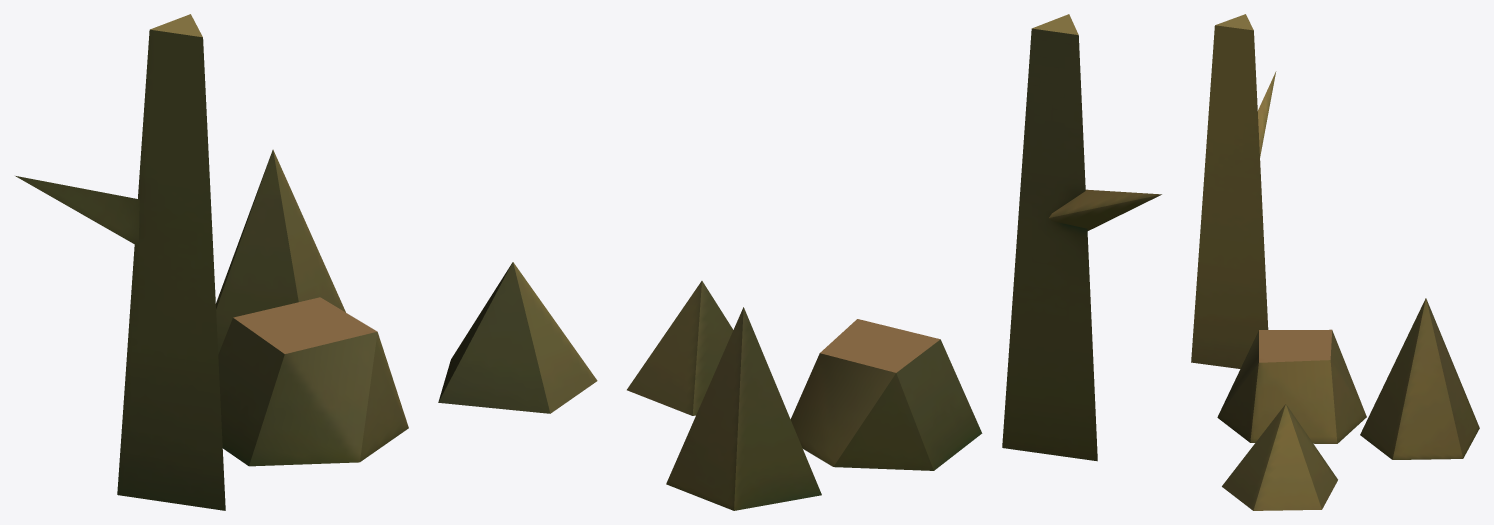
Rendered from Sce_worldmap_tree_b08.FBX.
3 views of the same model, side by side, from view 1: azimuth 30°, elevation 25°; view 2: azimuth 150°, elevation 25°; view 3: azimuth 270°, elevation 25° (orthographic). The views are drawn at different scales.
Visible parts, largest first — view 1: Sce_worldmap_tree_b08; view 2: Sce_worldmap_tree_b08; view 3: Sce_worldmap_tree_b08.
Part boxes in pixels (left/top/right/bottom): Sce_worldmap_tree_b08: left=15, top=14, right=597, bottom=510; Sce_worldmap_tree_b08: left=627, top=14, right=1161, bottom=510; Sce_worldmap_tree_b08: left=1191, top=14, right=1479, bottom=510.
Bounding box in the file's own units: 84.59 × 66.36 × 51.53.
